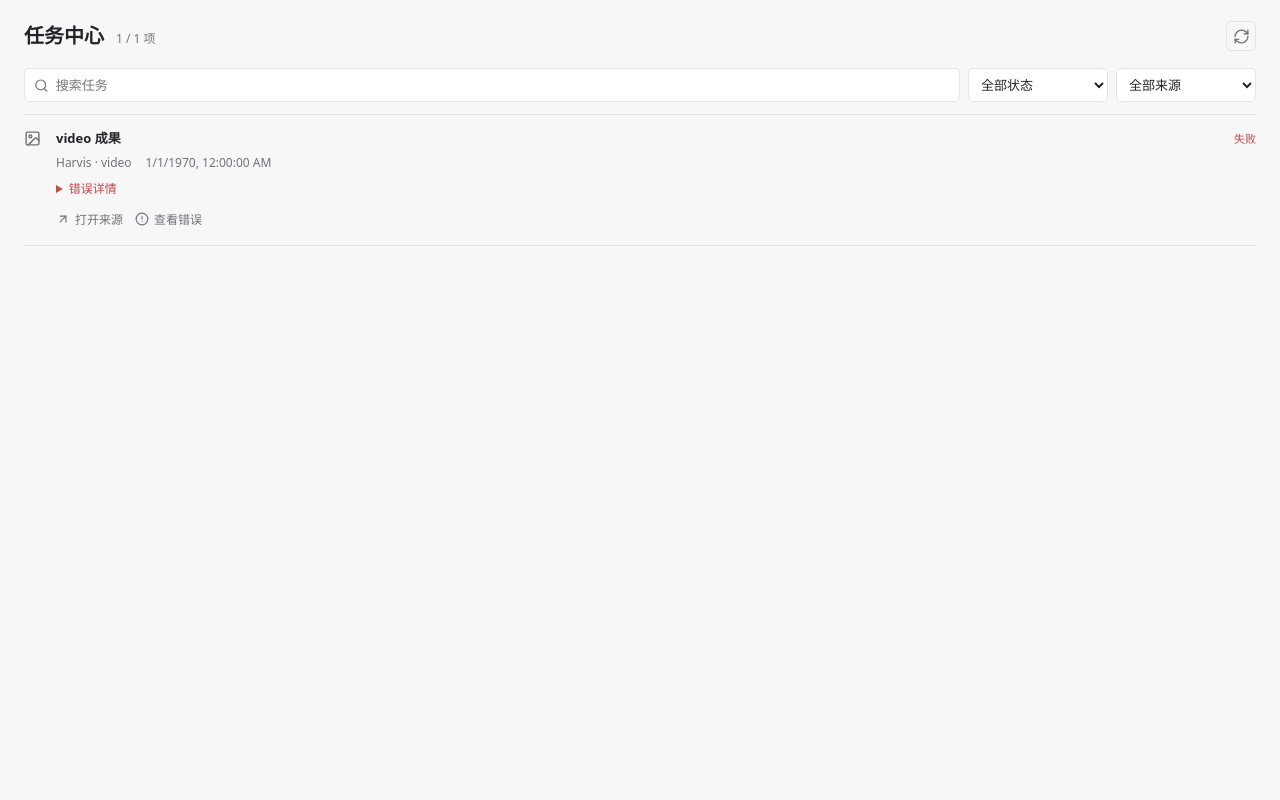
Test: TaskCenter video and TTS local result access › shows the actual task when the unsupported-kind source has no result yet
Click the button "打开来源": (90, 219) [56,206,123,232]
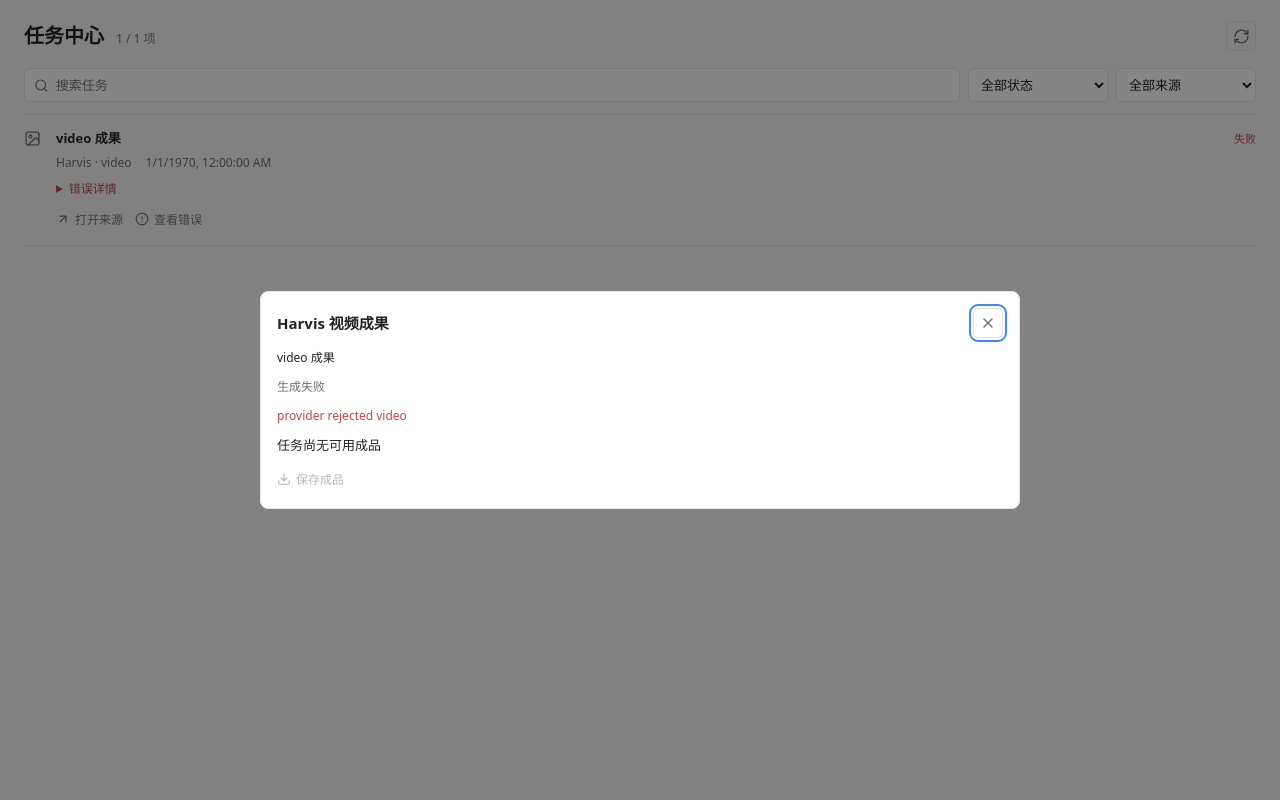
Now the text "provider rejected video" is shown, box [277,407,407,424]
Now the text "任务尚无可用成品" is shown, box [277,436,381,454]
